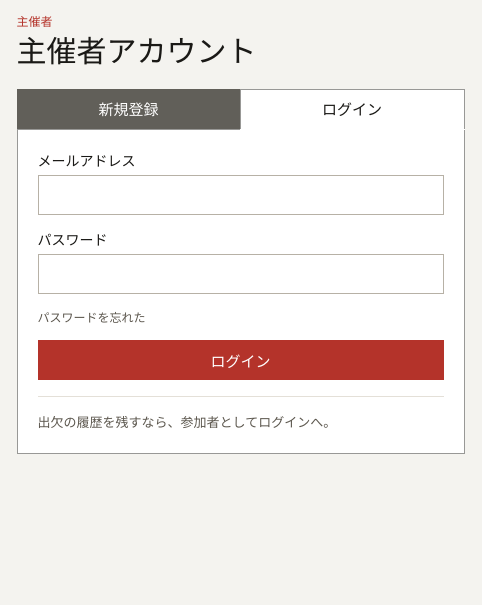
Test case: 未確認のままログインしたとき › ログインフォームのまま、確認メールの案内と再送を出す
Type "taro@example.com" into the field labelled "メールアドレス" at [240, 195], box [38, 175, 444, 215]
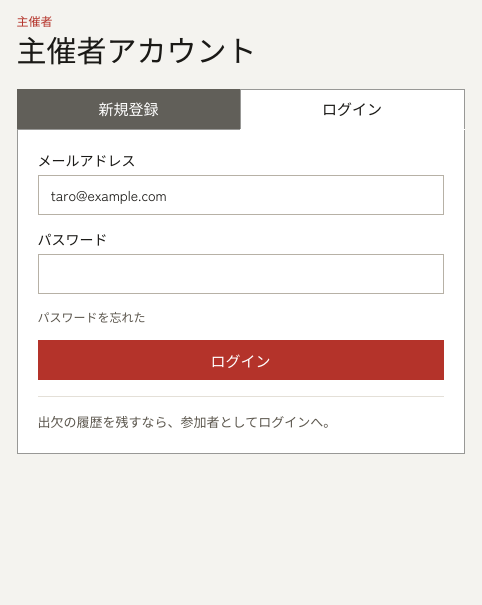
Type "password123" into the password field labelled "パスワード" at [240, 274], box [38, 254, 444, 294]
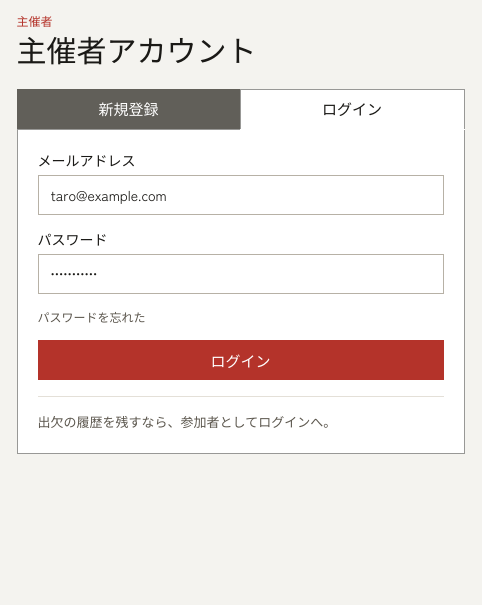
Click the button "ログイン" at [240, 360], box [38, 340, 444, 380]
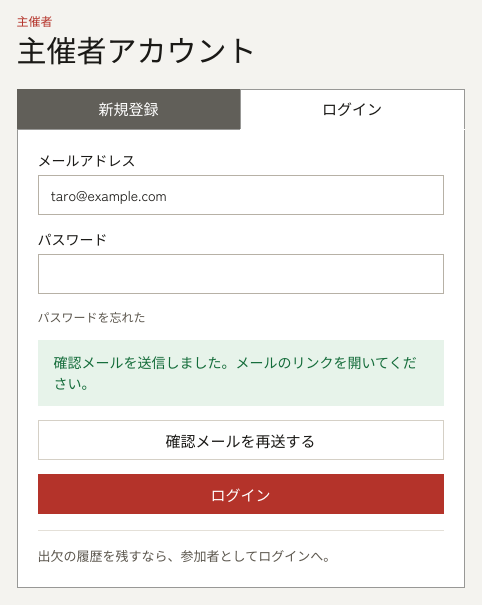
Expected: the heading "主催者アカウント" is shown, [16, 27, 256, 71]
Expected: the text "確認メールを送信しました。メールのリンクを開いてください。" is shown, [38, 340, 444, 406]
Expected: the button "確認メールを再送する" is shown, [38, 420, 444, 460]
